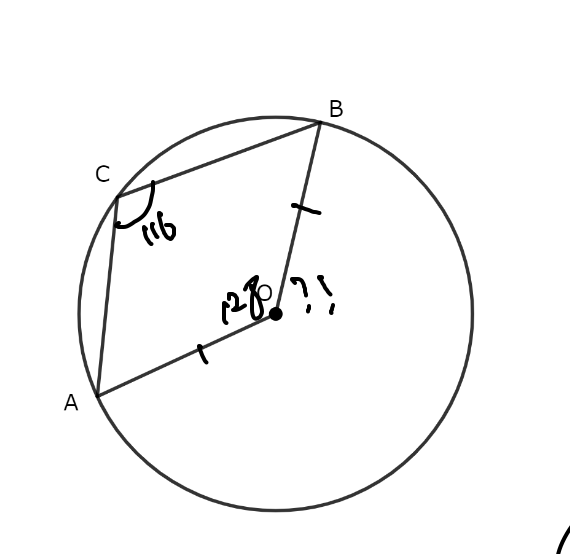Angle_Scurve: (111, 175, 159, 230)
Edge_Spine: (282, 193, 328, 222), (191, 340, 216, 374)
